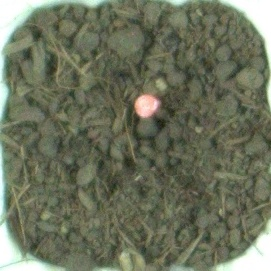pepper seed: (51, 32, 215, 151)
